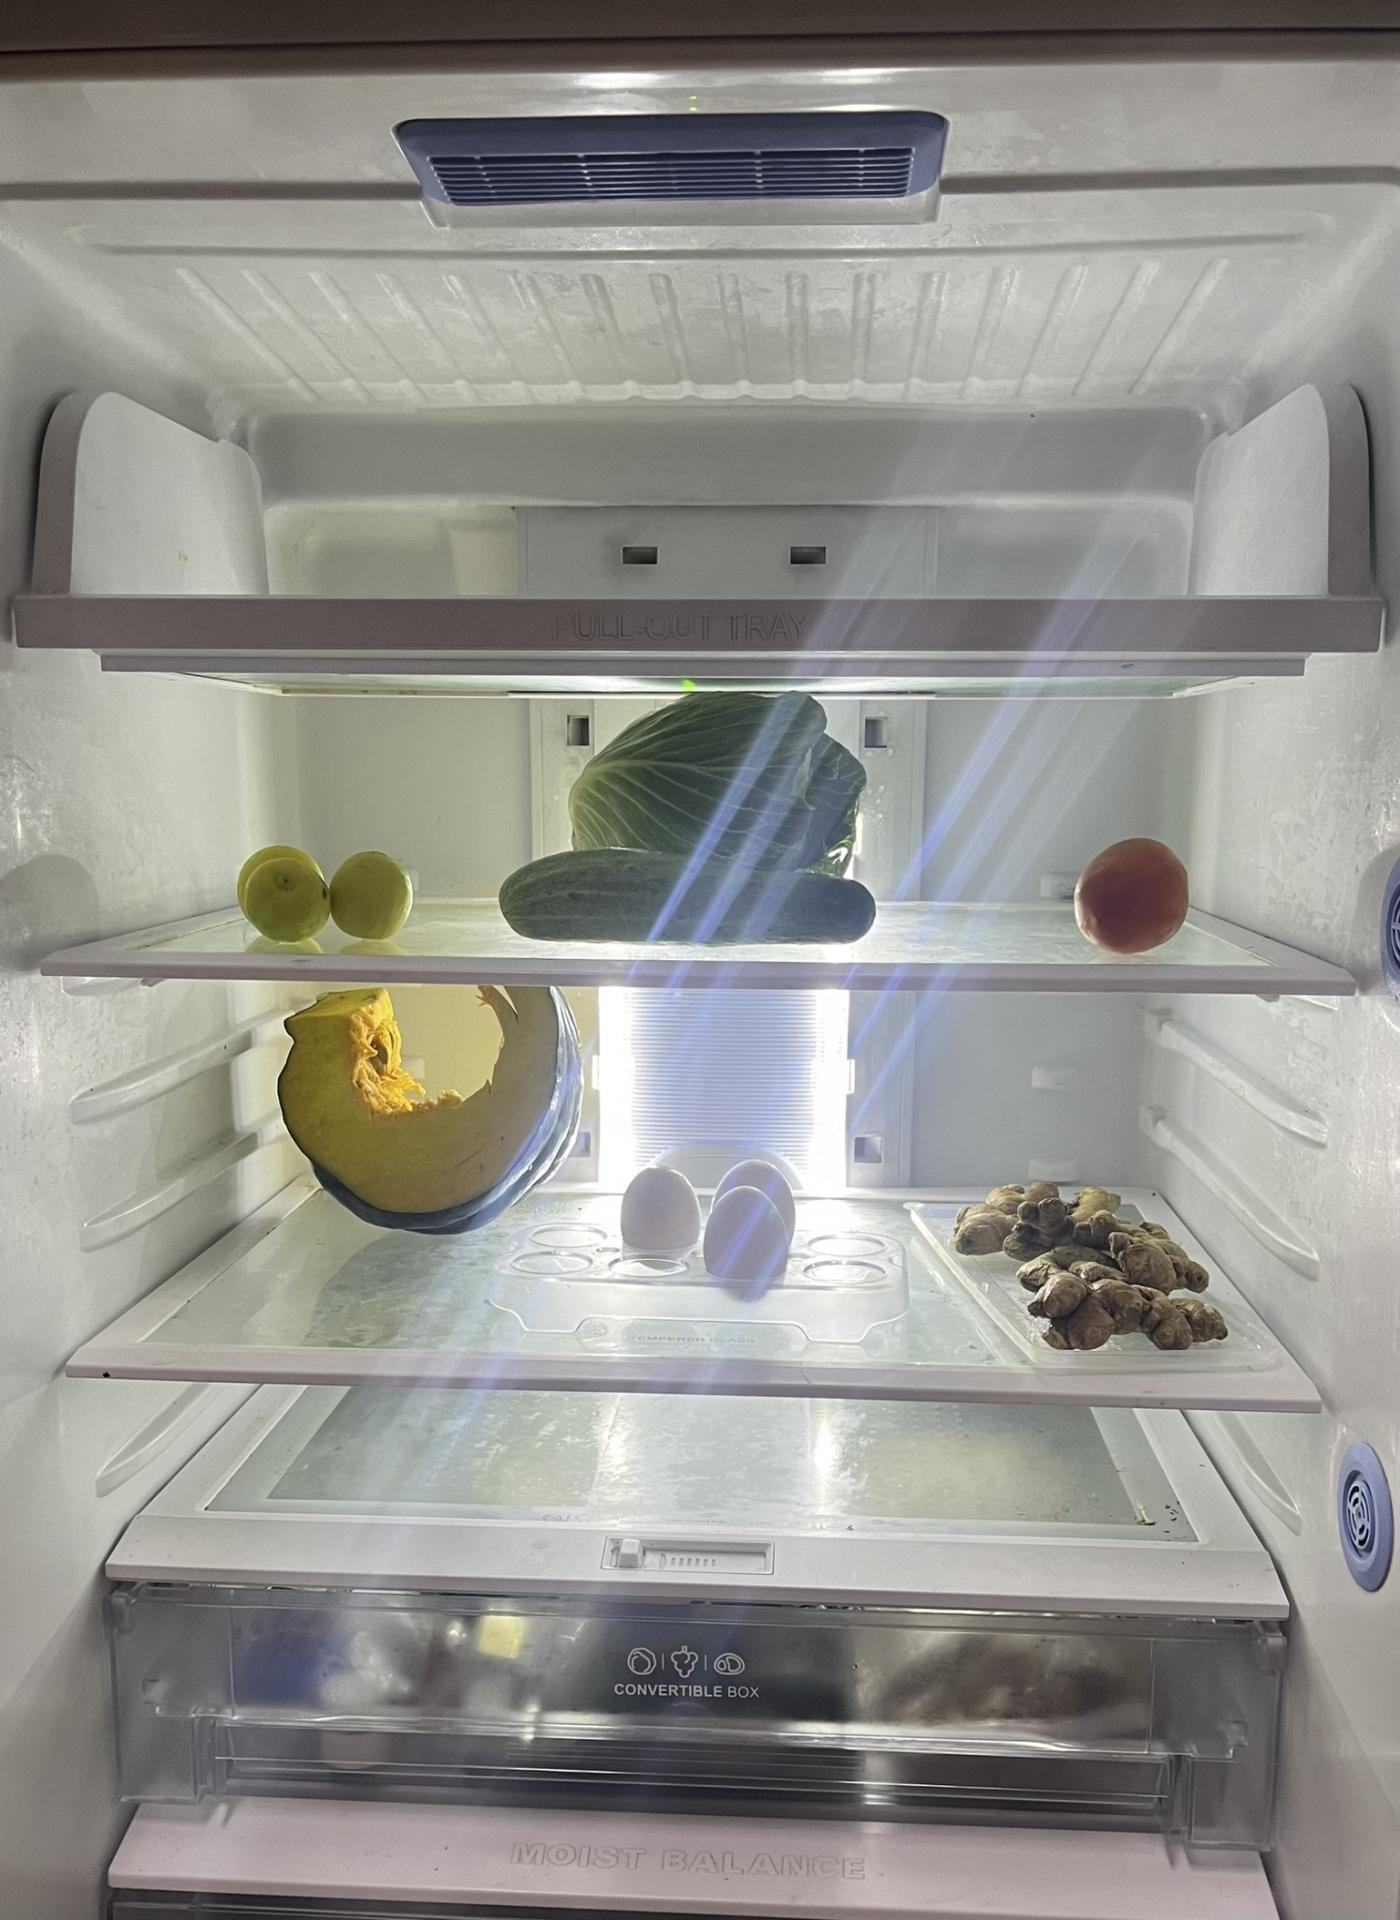cabbage: (565, 690, 865, 890)
cucumber: (501, 850, 877, 947)
egg: (620, 1161, 795, 1300)
ginger: (957, 1182, 1232, 1352)
lemon: (240, 845, 412, 938)
pumpkin: (277, 981, 581, 1234)
tomato: (1076, 836, 1190, 957)
